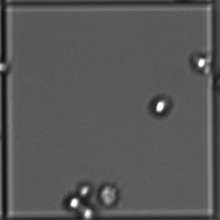Dead Cell: (94, 183, 122, 208)
Living Cell: (1, 56, 13, 79), (194, 57, 208, 69), (153, 99, 165, 113), (68, 196, 80, 209), (79, 184, 92, 195)
